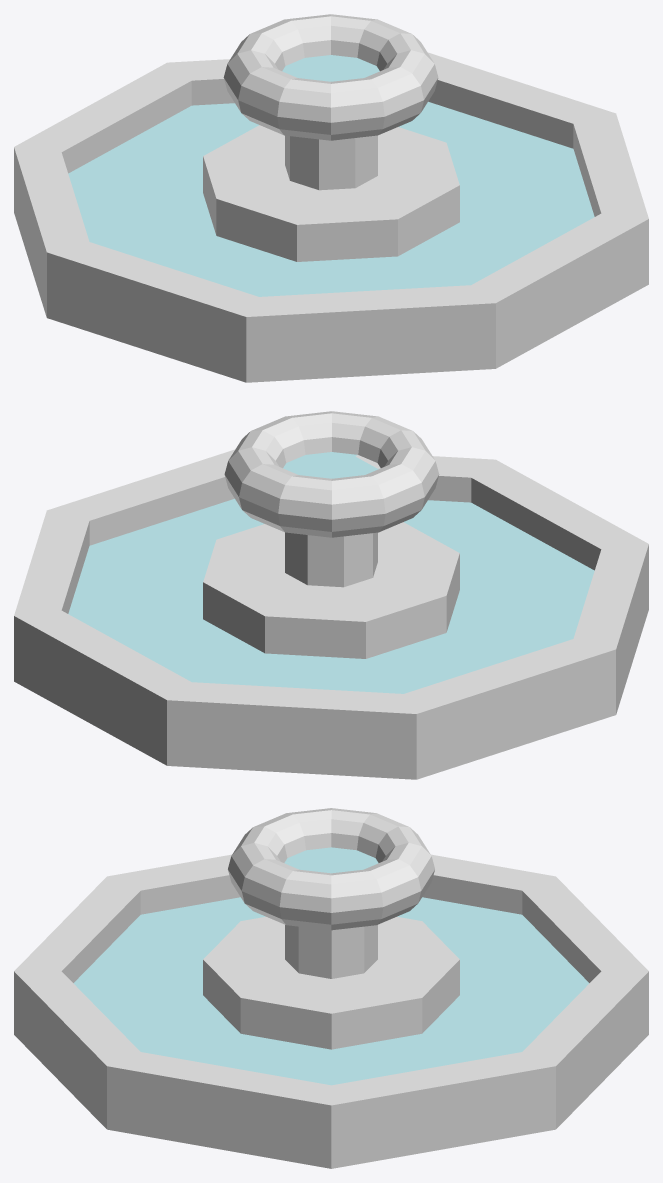
File: fontain.fbx
3 views of the same model, one above another, from view 1: azimuth 30°, elevation 25°; view 2: azimuth 150°, elevation 25°; view 3: azimuth 270°, elevation 25° (orthographic). The views are drawn at different scales.
Parts seen in each view (by area): view 1: Cylinder; view 2: Cylinder; view 3: Cylinder.
Boxes of the visible parts, x1,y1,x2,y2 form: Cylinder: (14,14,648,382); Cylinder: (14,411,648,779); Cylinder: (14,808,648,1168).
Bounding box in the file's own units: 600 × 200 × 600.
